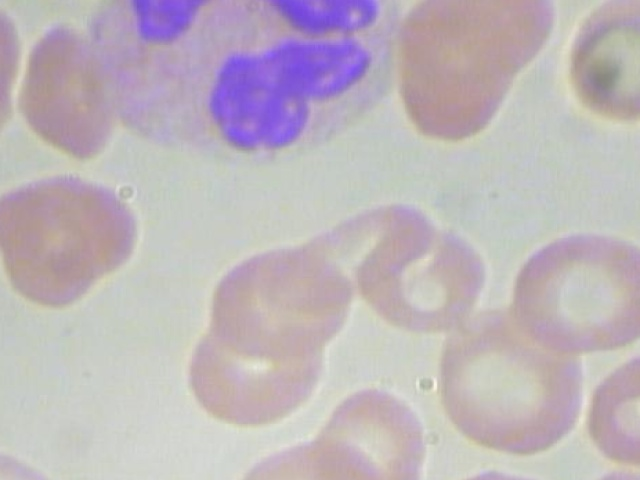Platelets: (0, 235, 2, 297)
RBC: (191, 228, 359, 360), (506, 222, 640, 355), (0, 176, 153, 284), (19, 12, 117, 163), (304, 380, 432, 480), (560, 0, 640, 132), (562, 348, 640, 468), (0, 0, 23, 106), (87, 385, 89, 387)
WBC: (90, 0, 426, 173)
